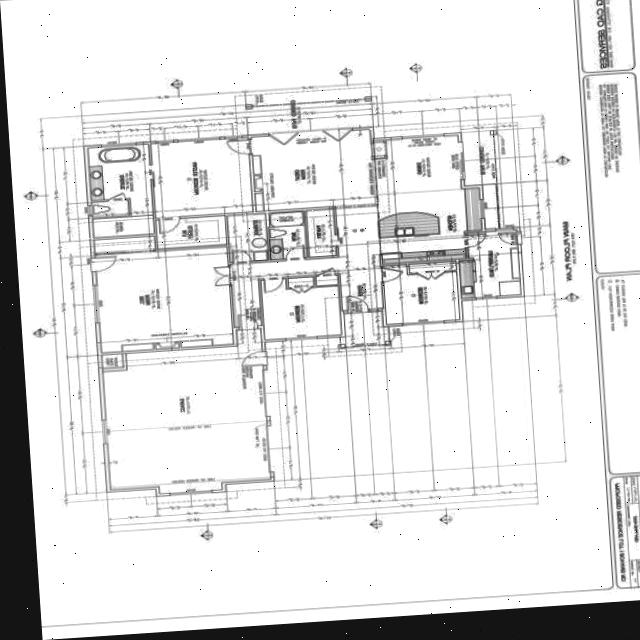room: (128, 62, 296, 232), (272, 57, 378, 195), (406, 112, 487, 214), (387, 50, 480, 116), (285, 223, 349, 303), (300, 344, 364, 421), (326, 419, 395, 482), (375, 117, 409, 189), (362, 189, 411, 230), (365, 229, 414, 268), (367, 268, 416, 298), (407, 53, 425, 90), (339, 277, 349, 300)
